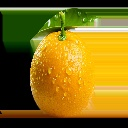orange: (29, 20, 96, 118)
